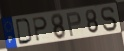8: (50, 12, 67, 40), (85, 9, 100, 35)
D: (15, 18, 33, 46)
P: (65, 11, 83, 38), (32, 16, 49, 43)
S: (100, 6, 118, 33)
